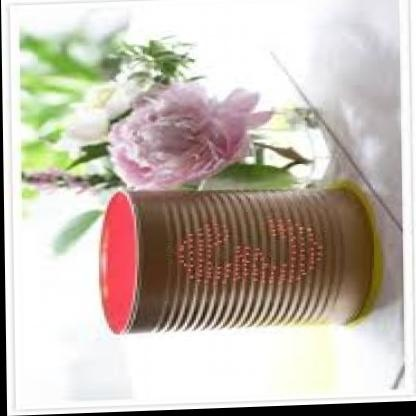trash: (100, 185, 376, 332)
